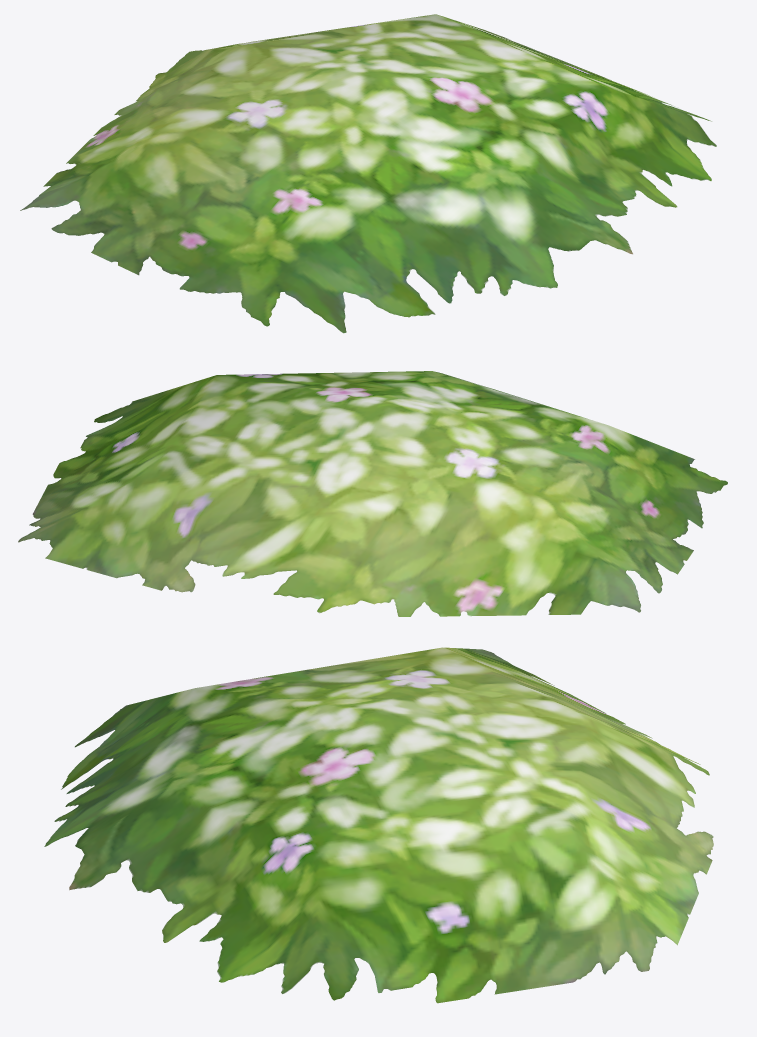
Rendered from SM_flower_02.fbx.
3 views of the same model, one above another, from view 1: azimuth 30°, elevation 25°; view 2: azimuth 150°, elevation 25°; view 3: azimuth 270°, elevation 25° (orthographic). The views are drawn at different scales.
Parts seen in each view (by area): view 1: SM_flower_02; view 2: SM_flower_02; view 3: SM_flower_02.
Part boxes in pixels (left/top/right/bottom): SM_flower_02: left=20, top=14, right=716, bottom=333; SM_flower_02: left=18, top=371, right=727, bottom=616; SM_flower_02: left=44, top=647, right=713, bottom=1003.
Bounding box in the file's own units: 3.55 × 0.5936 × 3.1.
